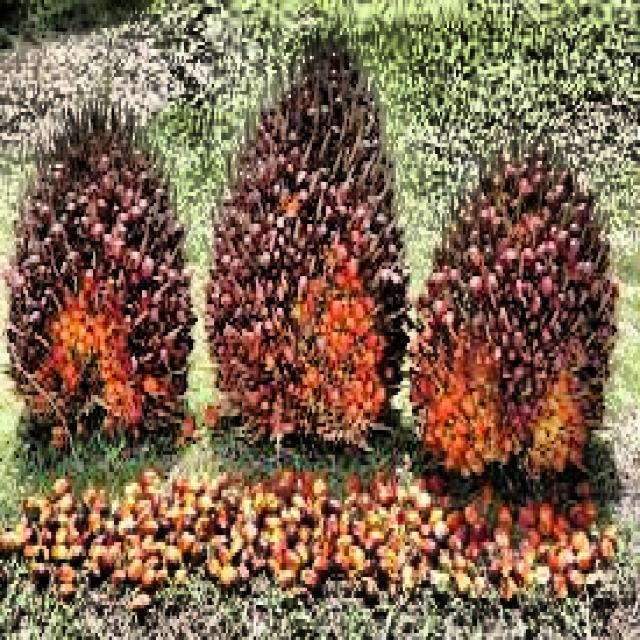FFB: (216, 48, 405, 438), (410, 143, 612, 469), (9, 117, 196, 439)
